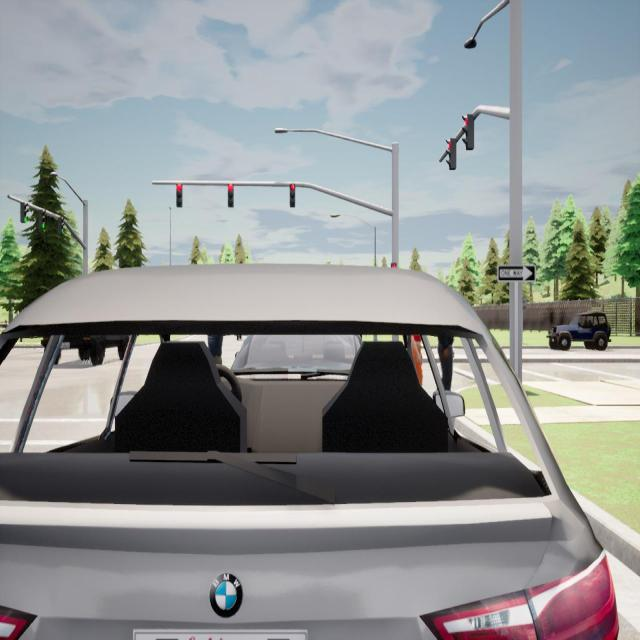Pedestrian: (434, 336, 462, 392), (410, 334, 422, 385)
Traffic_Signs: (498, 266, 536, 282)
Vehicle: (0, 266, 617, 640), (232, 335, 362, 372), (42, 337, 134, 368), (546, 310, 612, 351)
traffic_light: (462, 114, 474, 150), (446, 138, 456, 170), (20, 202, 29, 223), (176, 184, 183, 208), (38, 210, 46, 230), (228, 184, 234, 207), (290, 183, 295, 207), (58, 217, 64, 235), (391, 262, 396, 268)
